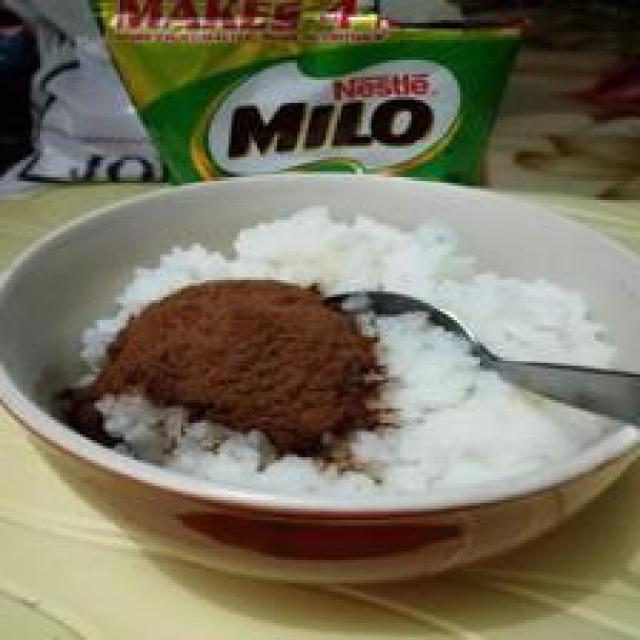Wet Waste: (59, 199, 618, 505)
